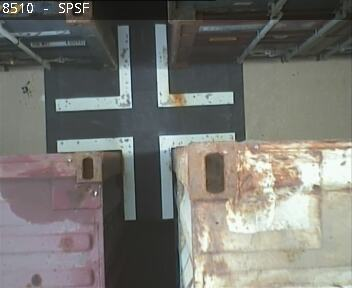groundmarker_1: (55, 132, 239, 220), (55, 22, 232, 113)
